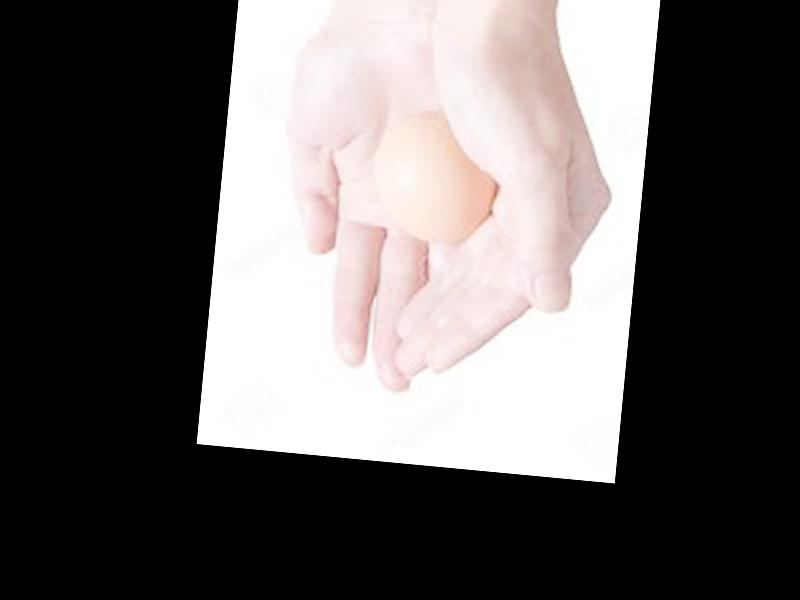Eggs: (373, 114, 499, 246)
